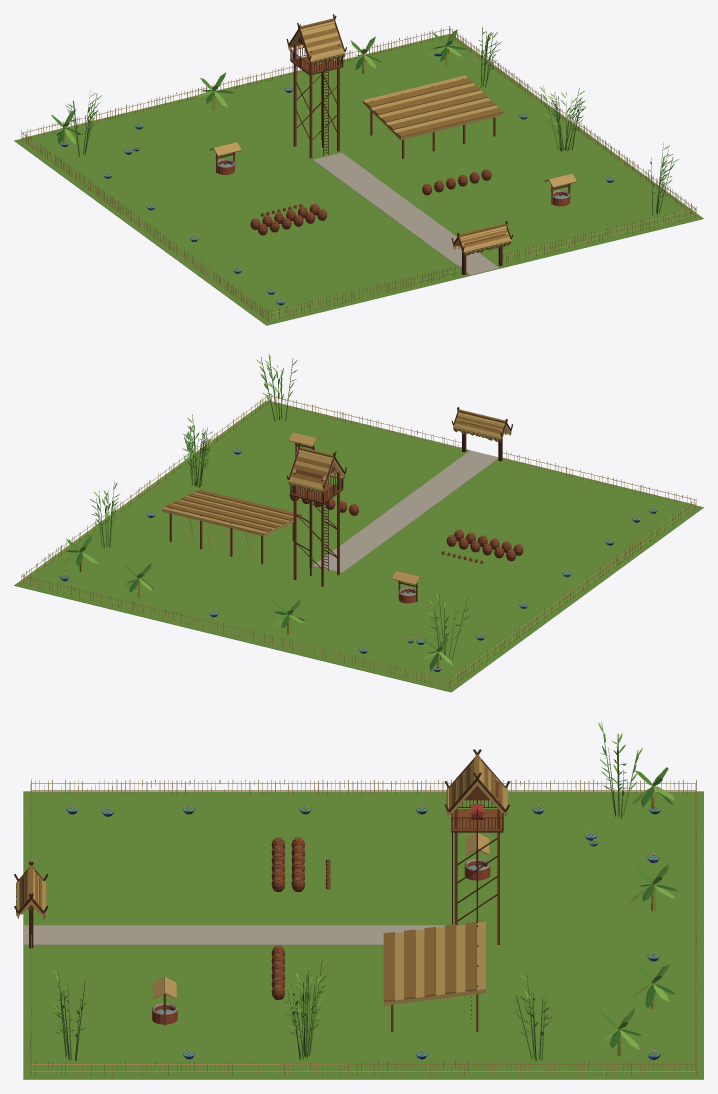
Rendered from fire.glb.
3 views of the same model, one above another, from view 1: azimuth 30°, elevation 25°; view 2: azimuth 150°, elevation 25°; view 3: azimuth 270°, elevation 25° (orthographic). The views are drawn at different scales.
Visible parts, largest first — view 1: body; view 2: body; view 3: body.
Boxes of the visible parts, bbox=[...] form: body: bbox=[14, 14, 703, 325]; body: bbox=[14, 354, 703, 692]; body: bbox=[14, 722, 703, 1079].
Size of the model in its own units: 47.9 by 13.59 by 48.56.
